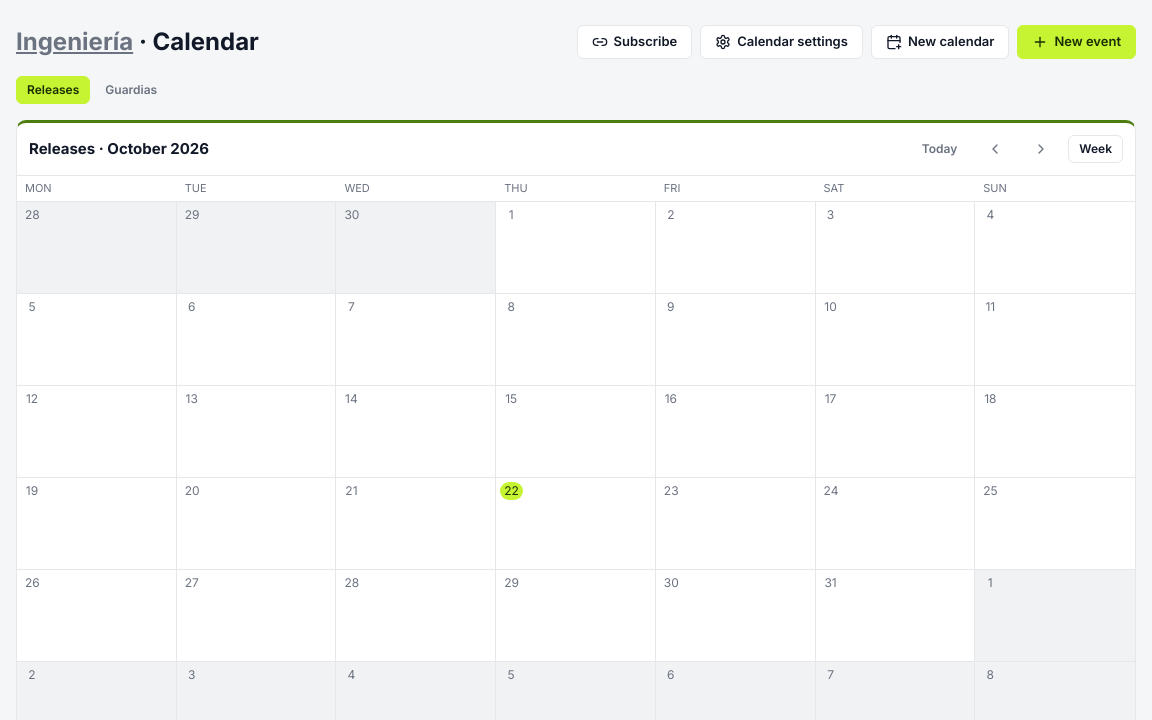
Test: CalendarsPage › opens the forms to add events and calendars
Click the button "New event" at {"x": 1077, "y": 42}, box [1017,25,1136,59]
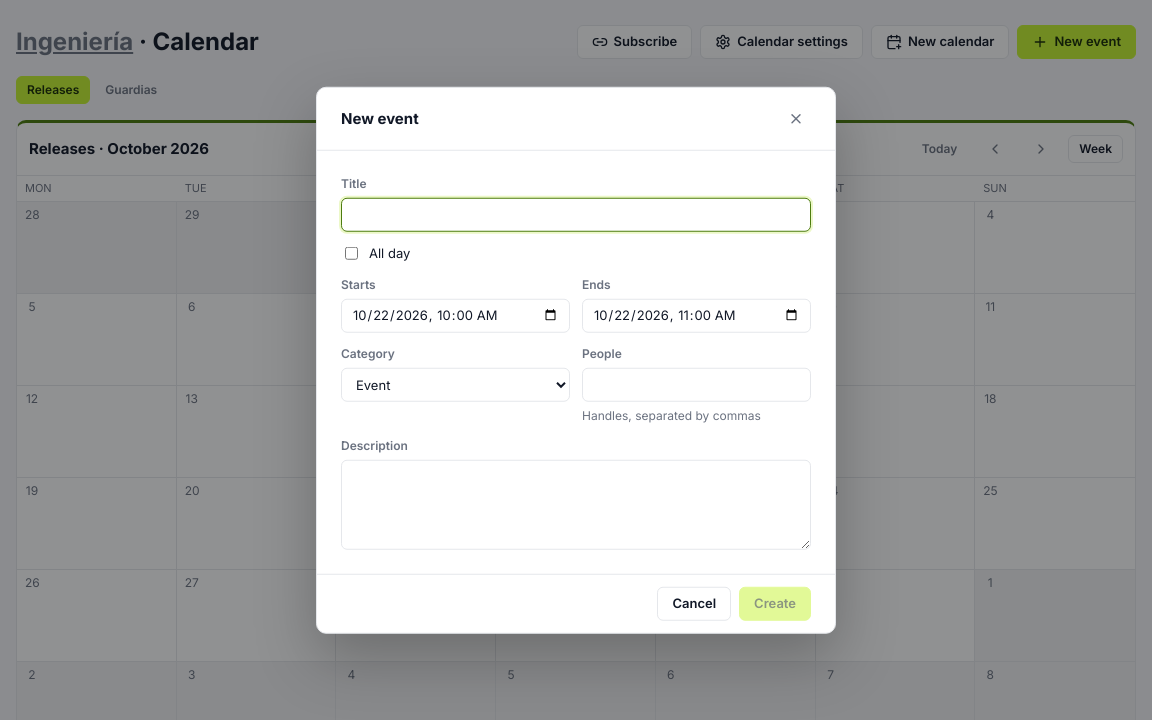
Result: the dialog "New event" is shown at [316,87,836,633]
Click the button "Cancel" at {"x": 694, "y": 603}, box [657,586,731,620]
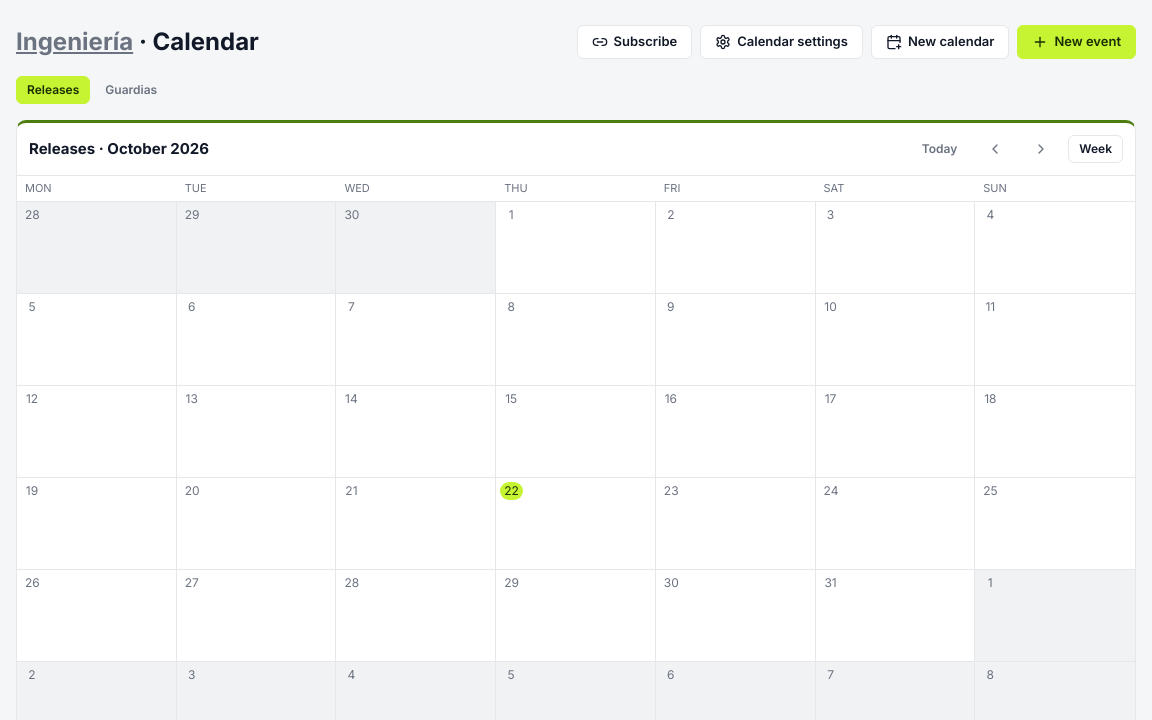
Click the button "New calendar" at {"x": 940, "y": 42}, box [871,25,1009,59]
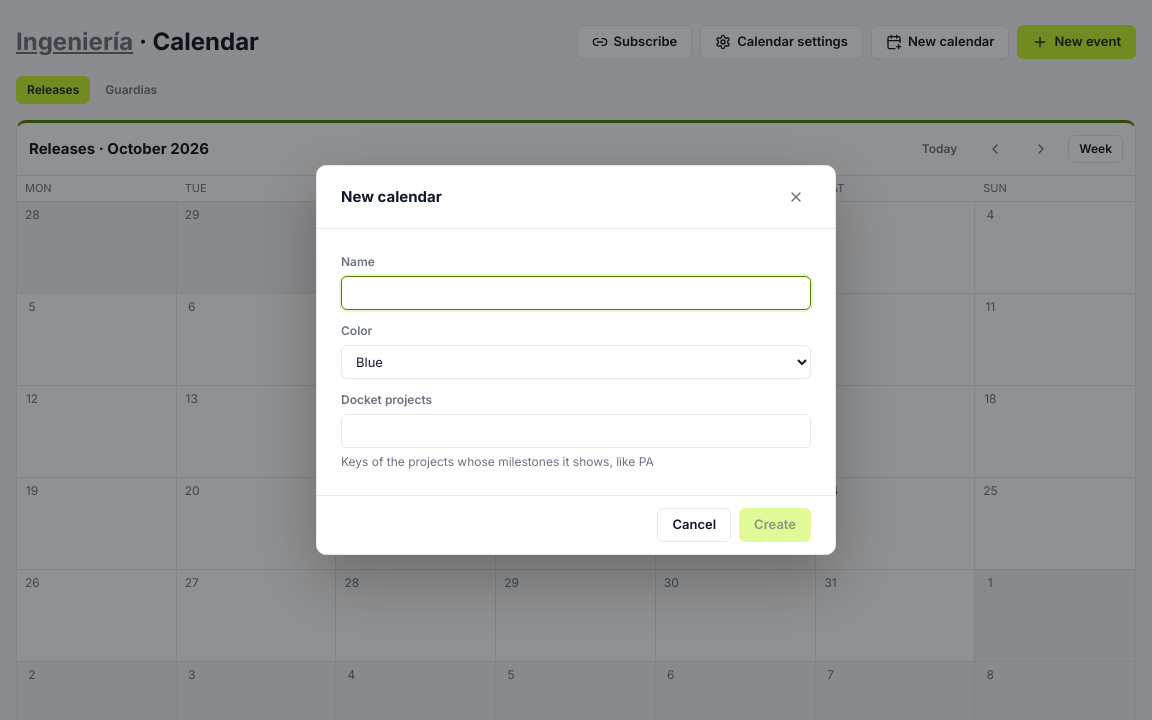
Result: the dialog "New calendar" is shown at [316,165,836,555]
